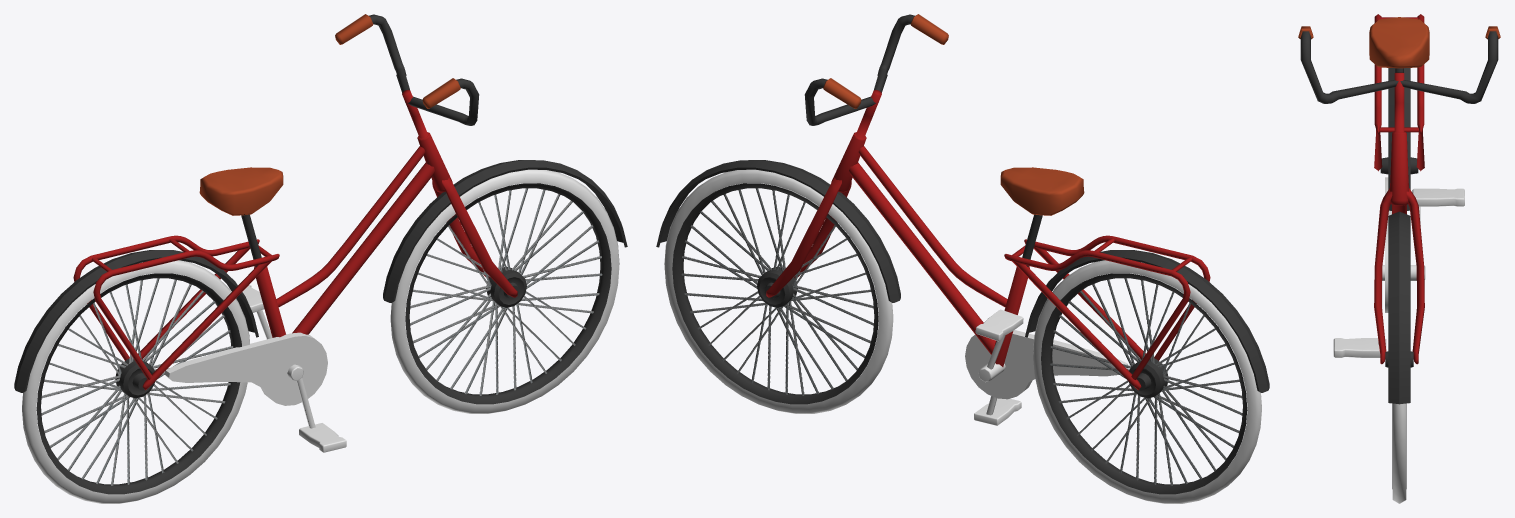
The model's file is SM_bike_01.fbx.
3 views of the same model, side by side, from view 1: azimuth 30°, elevation 25°; view 2: azimuth 150°, elevation 25°; view 3: azimuth 270°, elevation 25° (orthographic). The views are drawn at different scales.
Visible parts, largest first — view 1: Bike01; view 2: Bike01; view 3: Bike01.
Part boxes in pixels (left/top/right/bottom): Bike01: left=14, top=14, right=627, bottom=503; Bike01: left=656, top=14, right=1269, bottom=503; Bike01: left=1298, top=14, right=1500, bottom=503.
Size of the model in its own units: 104 by 62.63 by 27.83.
Materials: 5 (1 with a texture image).
